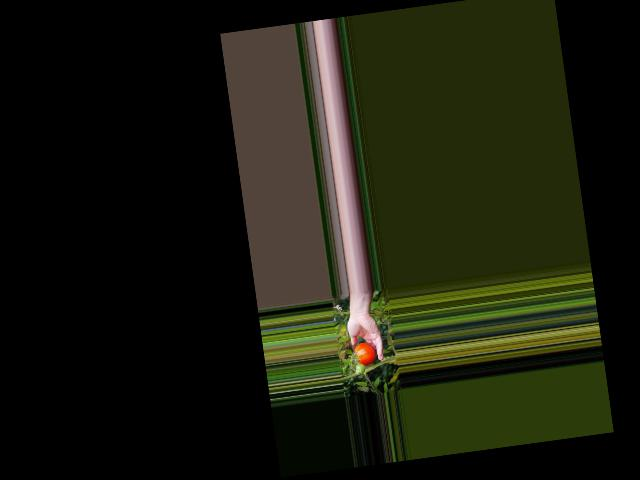tomato: (353, 340, 376, 366)
